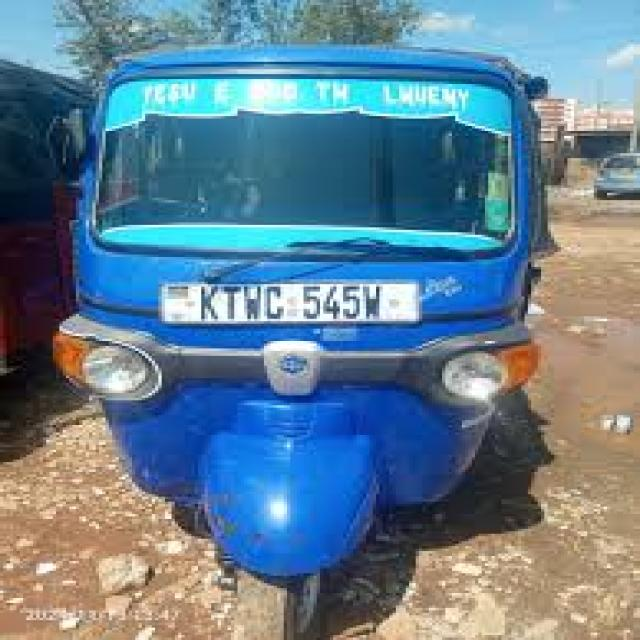tuktuk: (7, 7, 610, 640)
